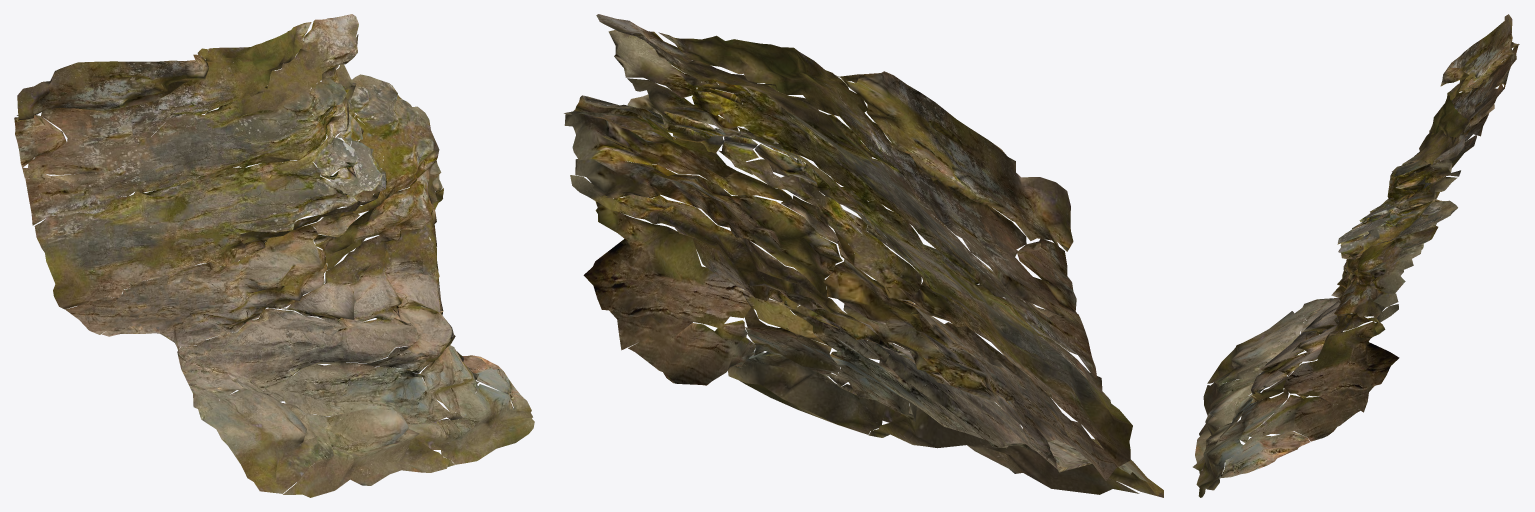
Rendered from rock_face_02.glb.
3 views of the same model, side by side, from view 1: azimuth 30°, elevation 25°; view 2: azimuth 150°, elevation 25°; view 3: azimuth 270°, elevation 25° (orthographic). The views are drawn at different scales.
Parts seen in each view (by area): view 1: lod0; view 2: lod0; view 3: lod0.
Boxes of the visible parts, box(x1,y1,x2,y2) form: lod0: box(14, 14, 534, 497); lod0: box(564, 14, 1163, 497); lod0: box(1193, 14, 1519, 497).
Size of what is drawn, in the model's own units: 2.71 by 2.48 by 2.14.
1 material, 1 textured.
